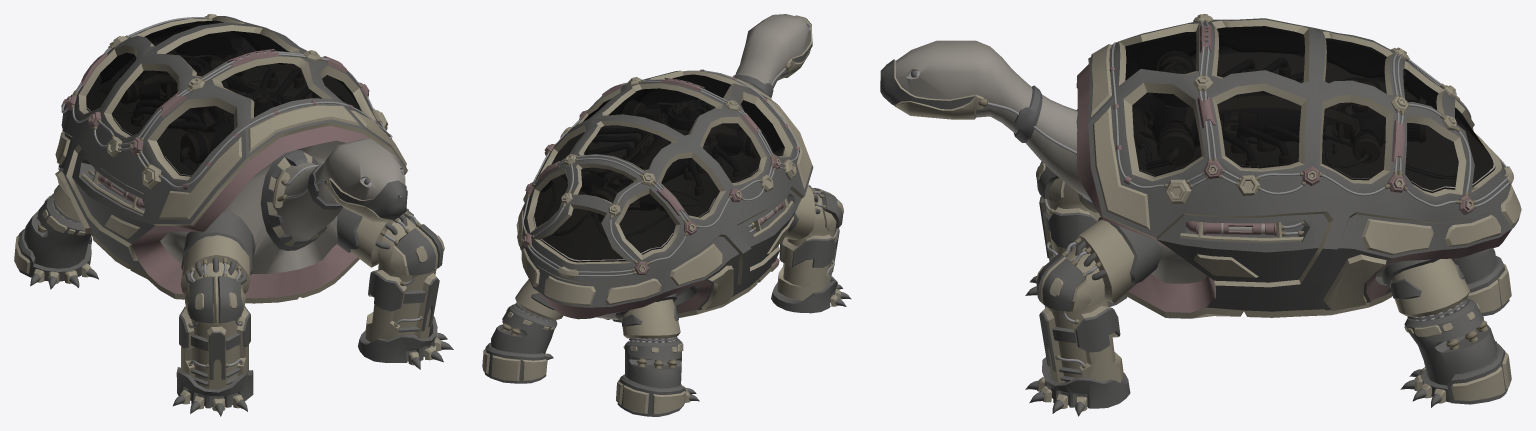
The model's file is draft.fbx.
3 views of the same model, side by side, from view 1: azimuth 30°, elevation 25°; view 2: azimuth 150°, elevation 25°; view 3: azimuth 270°, elevation 25° (orthographic). The views are drawn at different scales.
Parts seen in each view (by area): view 1: polySurface768, polySurface515, polySurface119, polySurface553, polySurface629, polySurface53, polySurface110, polySurface87, polySurface774, polySurface745, polySurface89, polySurface763 (+10 smaller); view 2: polySurface768, polySurface119, polySurface110, polySurface745, polySurface515, polySurface629, polySurface774, polySurface553, polySurface97, polySurface98, polySurface763, polySurface96 (+5 smaller); view 3: polySurface768, polySurface119, polySurface515, polySurface110, polySurface553, polySurface774, polySurface629, polySurface745, polySurface87, polySurface97, polySurface93, polySurface763 (+12 smaller).
Boxes of the visible parts, x1,y1,x2,y2 form: polySurface768: (59, 16, 407, 298); polySurface515: (173, 207, 453, 416); polySurface119: (86, 20, 361, 176); polySurface553: (273, 139, 405, 241); polySurface629: (61, 14, 390, 189); polySurface53: (160, 140, 345, 273); polySurface110: (14, 185, 92, 281); polySurface87: (153, 105, 407, 224); polySurface774: (137, 51, 348, 163); polySurface745: (86, 64, 363, 175); polySurface89: (245, 103, 364, 157); polySurface763: (131, 69, 318, 132); polySurface768: (521, 70, 804, 319); polySurface119: (533, 74, 784, 262); polySurface110: (482, 279, 686, 416); polySurface745: (533, 100, 784, 261); polySurface515: (771, 184, 851, 313); polySurface629: (522, 70, 798, 278); polySurface774: (566, 100, 765, 209); polySurface553: (735, 14, 810, 88); polySurface97: (517, 201, 725, 288); polySurface98: (521, 247, 664, 307); polySurface763: (585, 128, 740, 195); polySurface96: (543, 273, 598, 307); polySurface768: (1076, 18, 1511, 312); polySurface119: (1125, 26, 1495, 193); polySurface515: (1025, 161, 1161, 416); polySurface110: (1381, 248, 1511, 404); polySurface553: (896, 40, 1089, 197); polySurface774: (1133, 51, 1385, 165); polySurface629: (1111, 14, 1513, 214); polySurface745: (1133, 52, 1495, 191); polySurface87: (1088, 97, 1155, 237); polySurface97: (1357, 215, 1437, 258); polySurface93: (1318, 252, 1391, 310); polySurface763: (1222, 58, 1303, 164).
Size of the model in its own units: 11.47 by 11.05 by 20.79.
